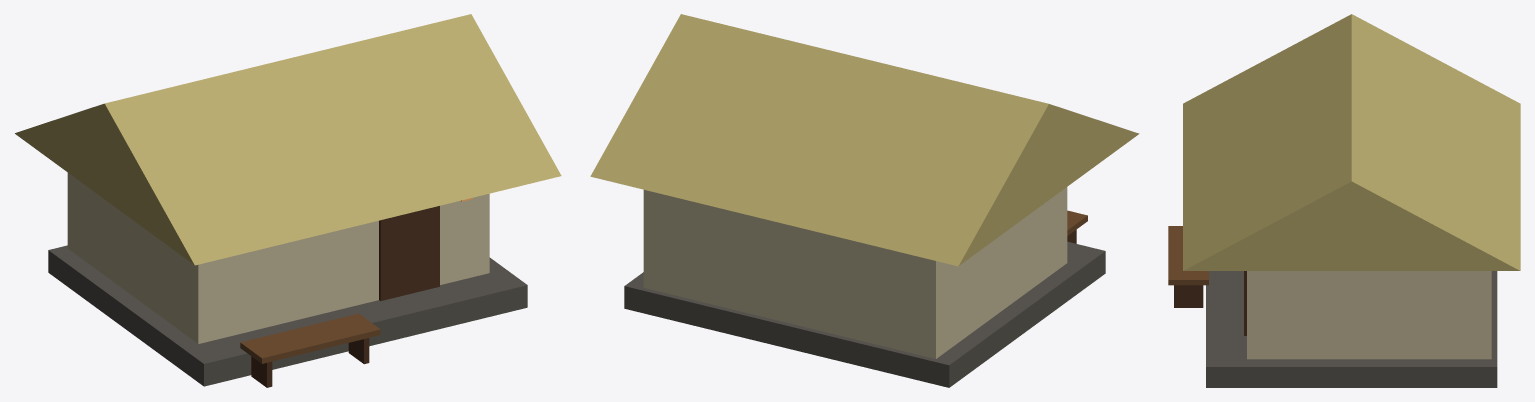
Rendered from harbor_inn.glb.
3 views of the same model, side by side, from view 1: azimuth 30°, elevation 25°; view 2: azimuth 150°, elevation 25°; view 3: azimuth 270°, elevation 25° (orthographic). The views are drawn at different scales.
Parts seen in each view (by area): view 1: harbor_inn; view 2: harbor_inn; view 3: harbor_inn.
Boxes of the visible parts, left/top/right/bottom form: harbor_inn: left=15, top=14, right=561, bottom=387; harbor_inn: left=590, top=14, right=1139, bottom=387; harbor_inn: left=1168, top=14, right=1520, bottom=387.
Size of the model in its own units: 6.8 by 4.1 by 6.05.
